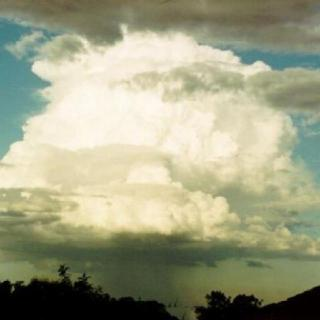Cumulonimbus: (0, 0, 320, 262)
